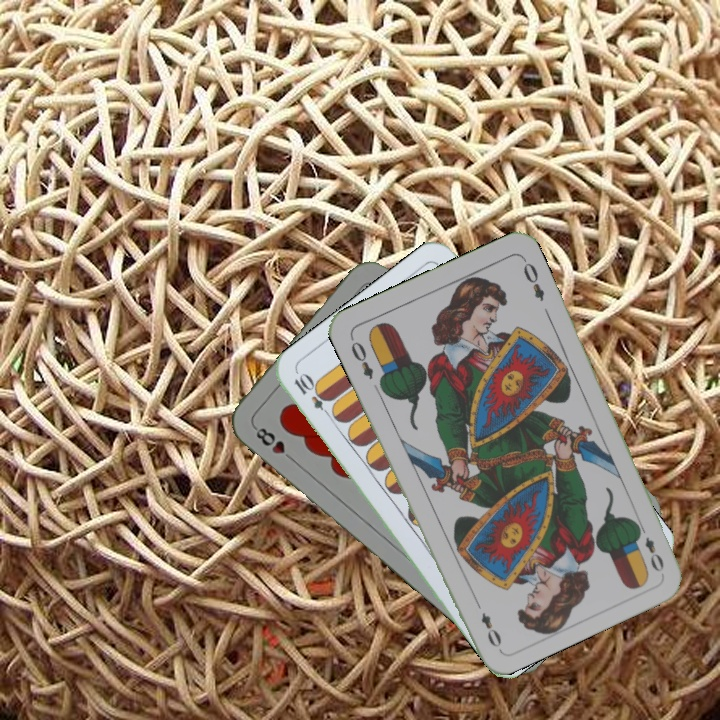E10: (290, 370, 336, 421)
EO: (633, 519, 667, 575), (346, 333, 376, 382)
H8: (249, 422, 298, 465)
